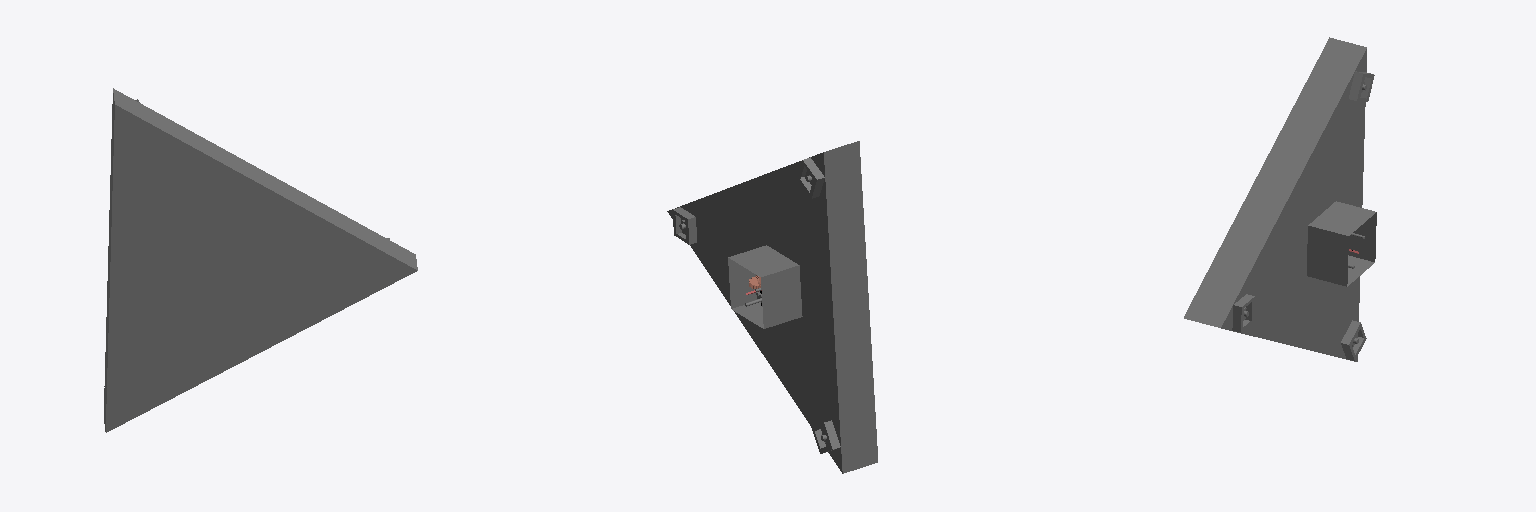
Rendered from kafa1.obj.
The picture shows the model from 3 angles: view 1: azimuth 30°, elevation 25°; view 2: azimuth 150°, elevation 25°; view 3: azimuth 270°, elevation 25°; orthographic projection.
Visible parts, largest first — view 1: group42 pPrism1; view 2: group42 pPrism1, group42 pCube5, group42 pCube11, group42 pCube6, group42 pCube13; view 3: group42 pPrism1, group42 pCube5, group42 pCube6, group42 pCube13, group42 pCube11.
Part boxes in pixels (left/top/right/bottom): group42 pPrism1: left=104, top=88, right=417, bottom=432; group42 pPrism1: left=667, top=141, right=877, bottom=473; group42 pCube5: left=728, top=245, right=802, bottom=328; group42 pCube11: left=797, top=157, right=824, bottom=198; group42 pCube6: left=673, top=207, right=696, bottom=244; group42 pCube13: left=811, top=420, right=840, bottom=453; group42 pPrism1: left=1184, top=37, right=1366, bottom=361; group42 pCube5: left=1307, top=201, right=1376, bottom=286; group42 pCube6: left=1232, top=294, right=1254, bottom=332; group42 pCube13: left=1341, top=320, right=1366, bottom=360; group42 pCube11: left=1349, top=71, right=1374, bottom=101.
Size of the model in its own units: 63.36 by 75.15 by 40.79.